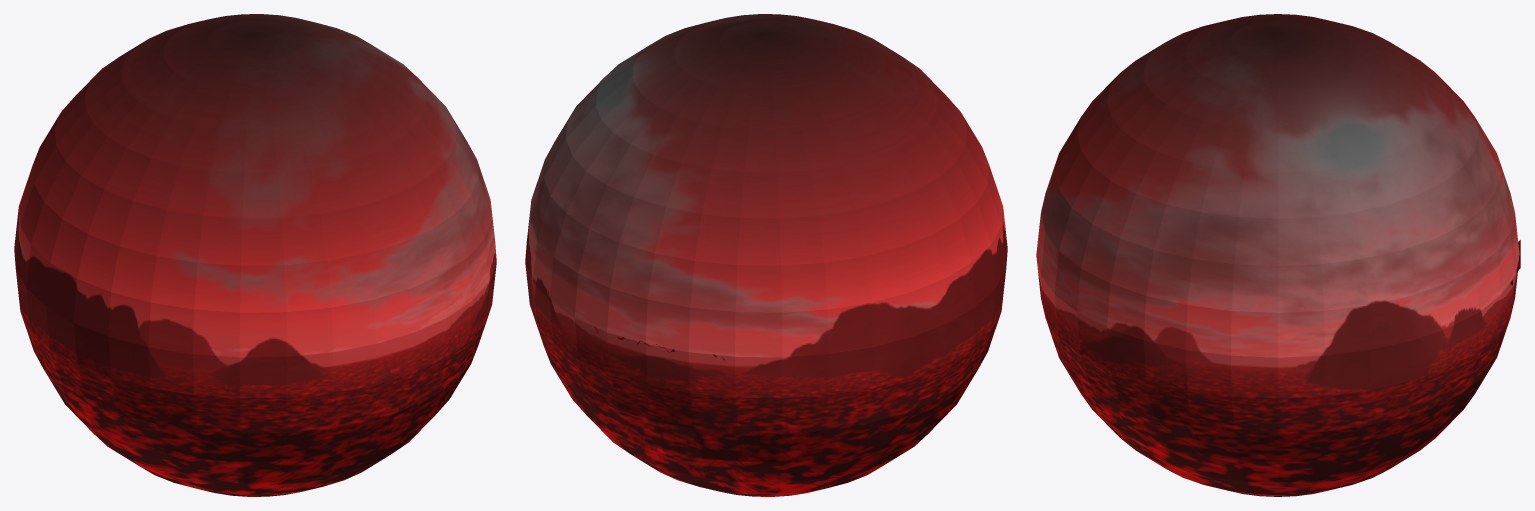
File: stage12.glb
3 renders of one model, left to right at view 1: azimuth 30°, elevation 25°; view 2: azimuth 150°, elevation 25°; view 3: azimuth 270°, elevation 25°, orthographic.
Parts seen in each view (by area): view 1: Sphere; view 2: Sphere; view 3: Sphere.
Boxes of the visible parts, x1,y1,x2,y2 form: Sphere: (14, 14, 496, 496); Sphere: (525, 14, 1007, 496); Sphere: (1036, 14, 1519, 496).
Bounding box in the file's own units: 500 × 500 × 501.
Materials: 5 (4 with a texture image).
